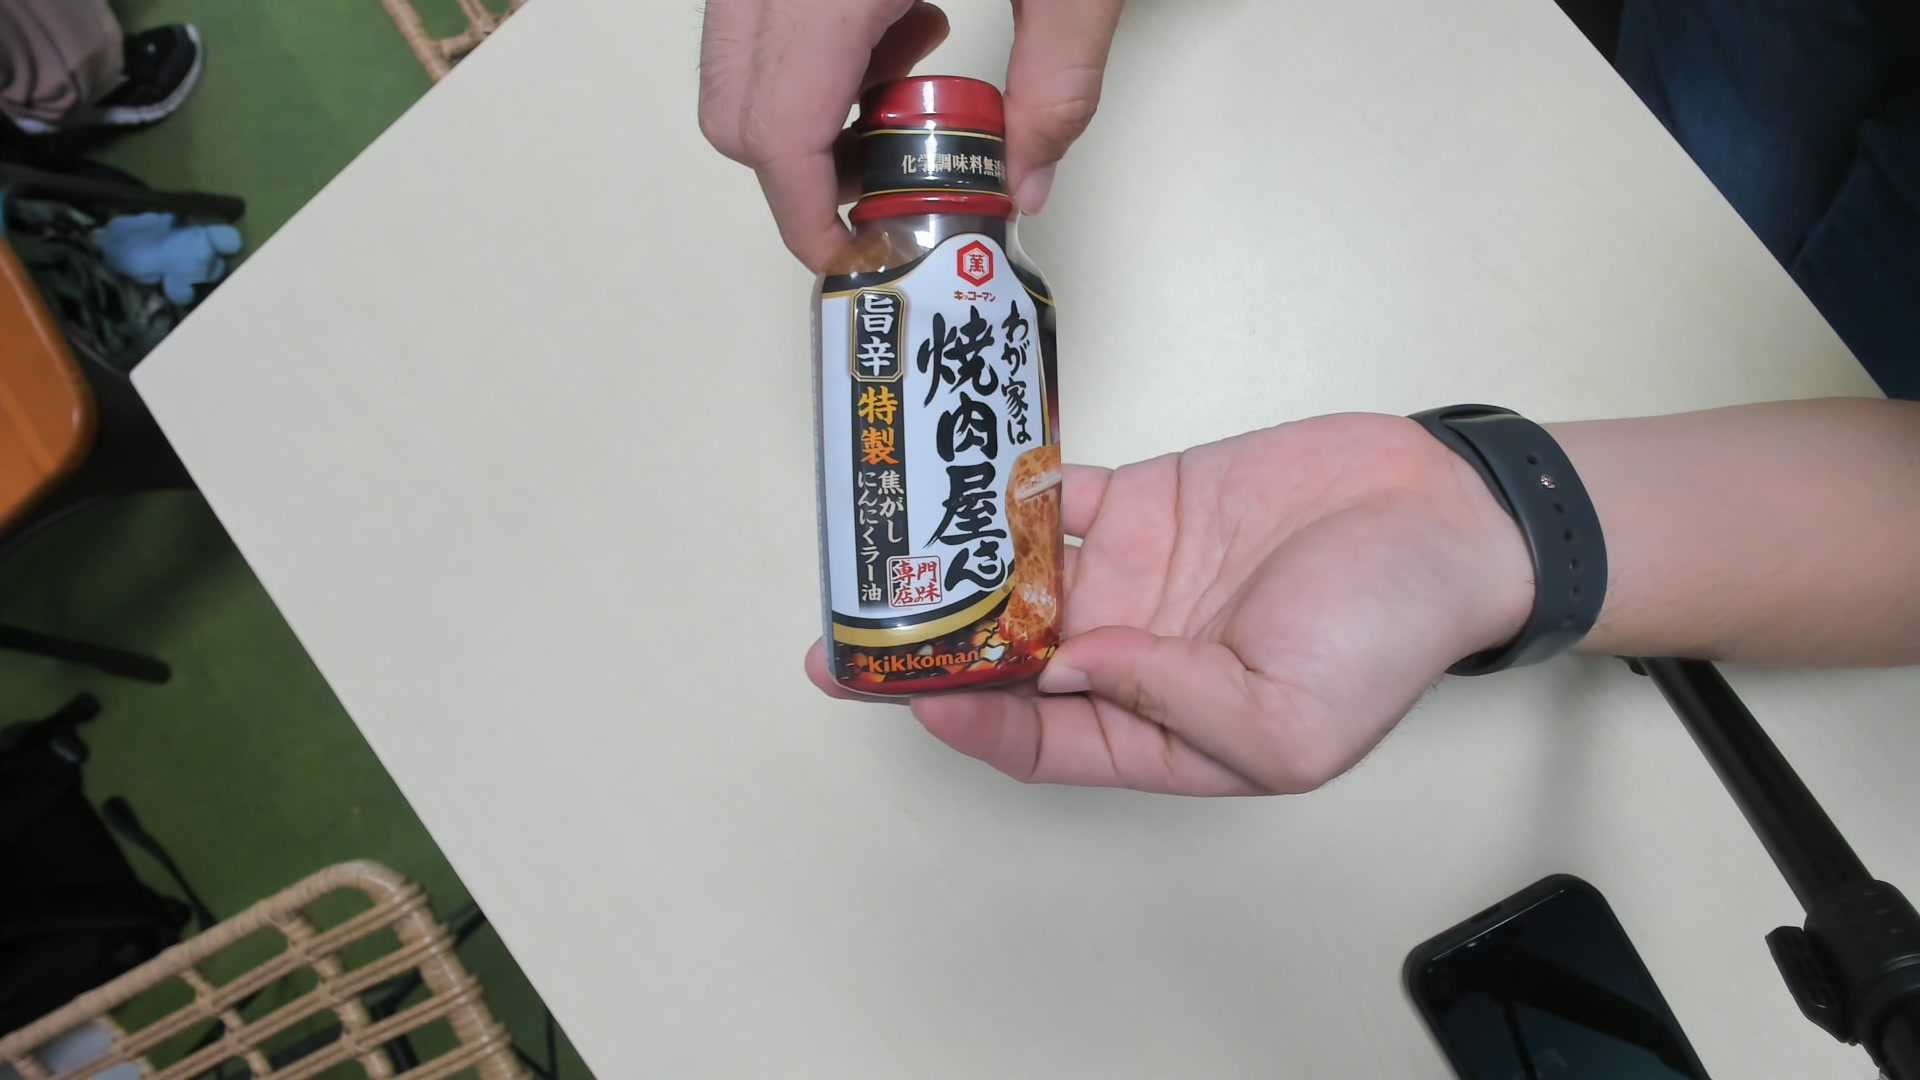OtherSauceDressing_200-299g_NonHalal_NonHealthy: (811, 75, 1067, 688)
